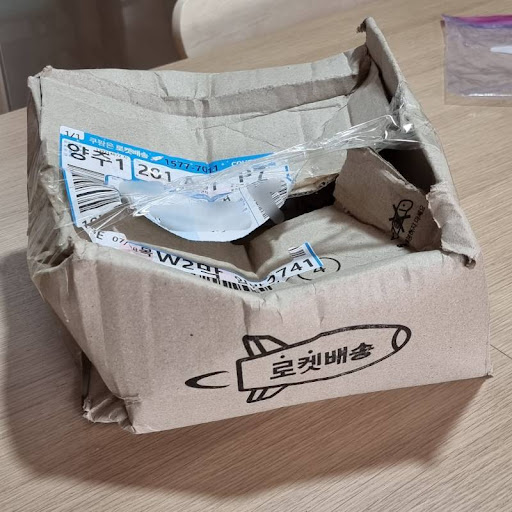damaged package: (79, 14, 493, 287)
